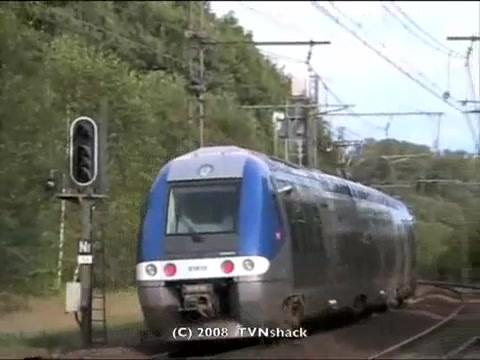train: (137, 146, 420, 341)
